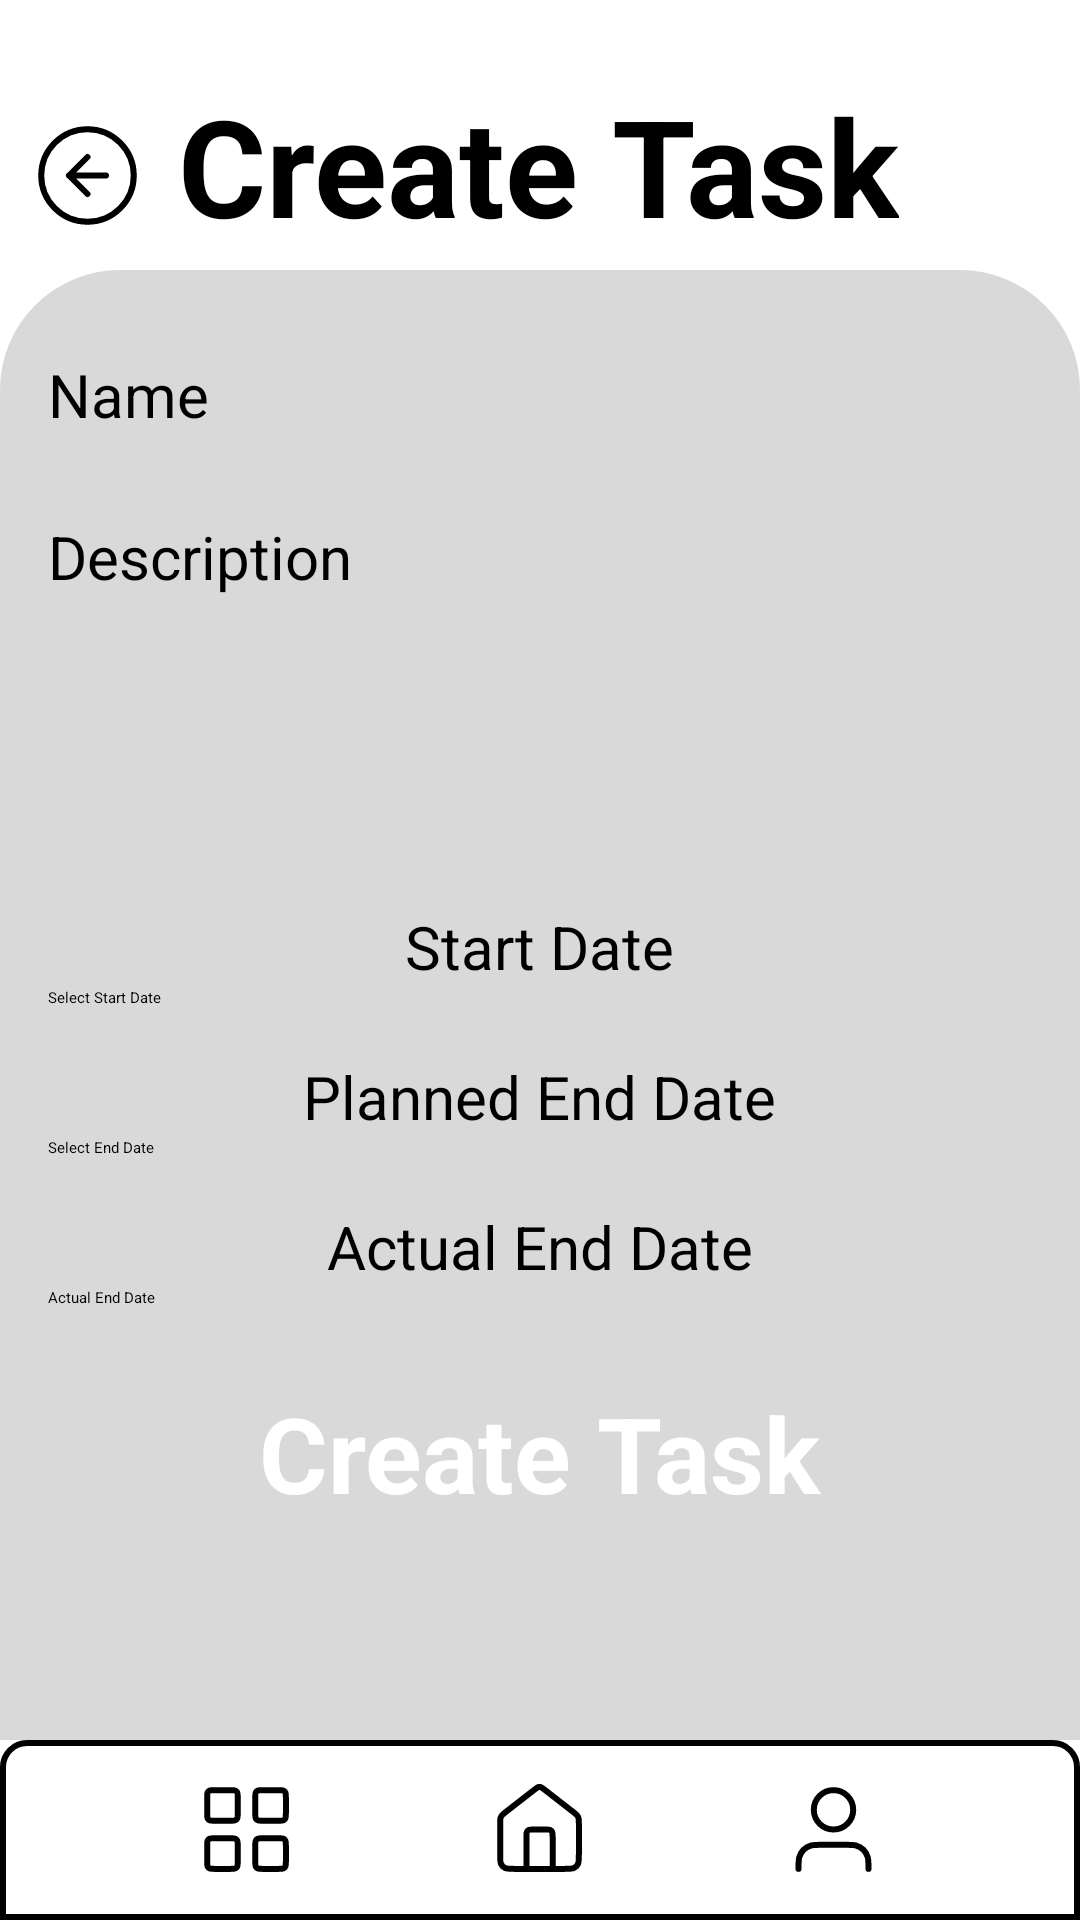

Named icons in this screenshot (1080×1920) and their centers, point (x, y):
backbutton: point (87, 175)
grid: point (246, 1829)
home: point (539, 1828)
user: point (833, 1829)
